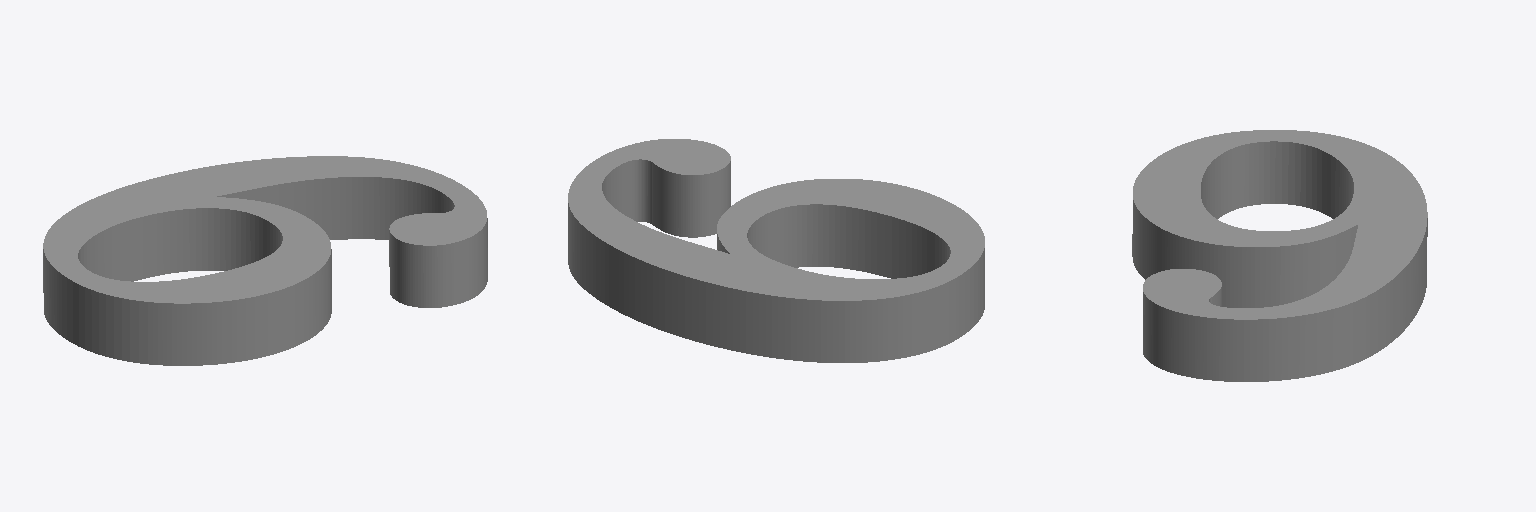
File: number6.obj
3 renders of one model, left to right at view 1: azimuth 30°, elevation 25°; view 2: azimuth 150°, elevation 25°; view 3: azimuth 270°, elevation 25°, orthographic.
Parts seen in each view (by area): view 1: Text.028; view 2: Text.028; view 3: Text.028.
Boxes of the visible parts, x1,y1,x2,y2 form: Text.028: [43, 156, 487, 365]; Text.028: [568, 139, 984, 362]; Text.028: [1132, 130, 1427, 381].
Size of the model in its own units: 1.05 by 0.1638 by 0.6867.